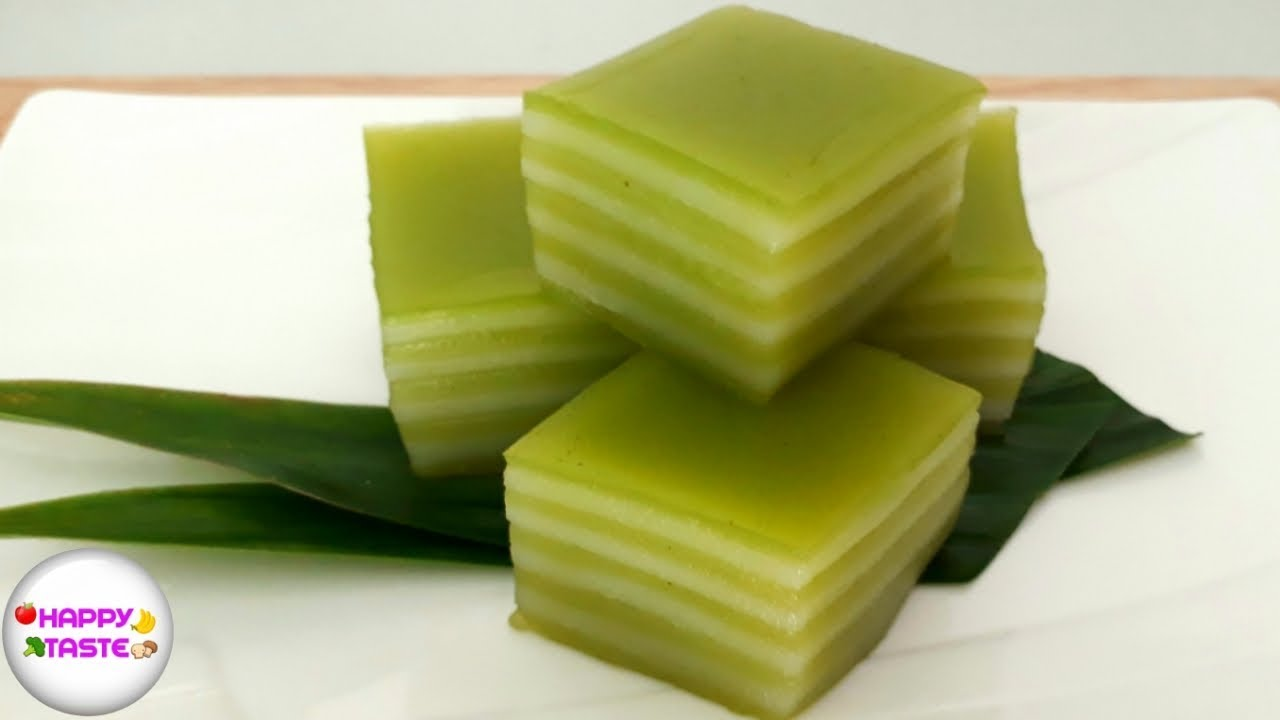kanomchan: (363, 3, 1068, 720), (489, 301, 1028, 720), (520, 3, 1022, 420)
